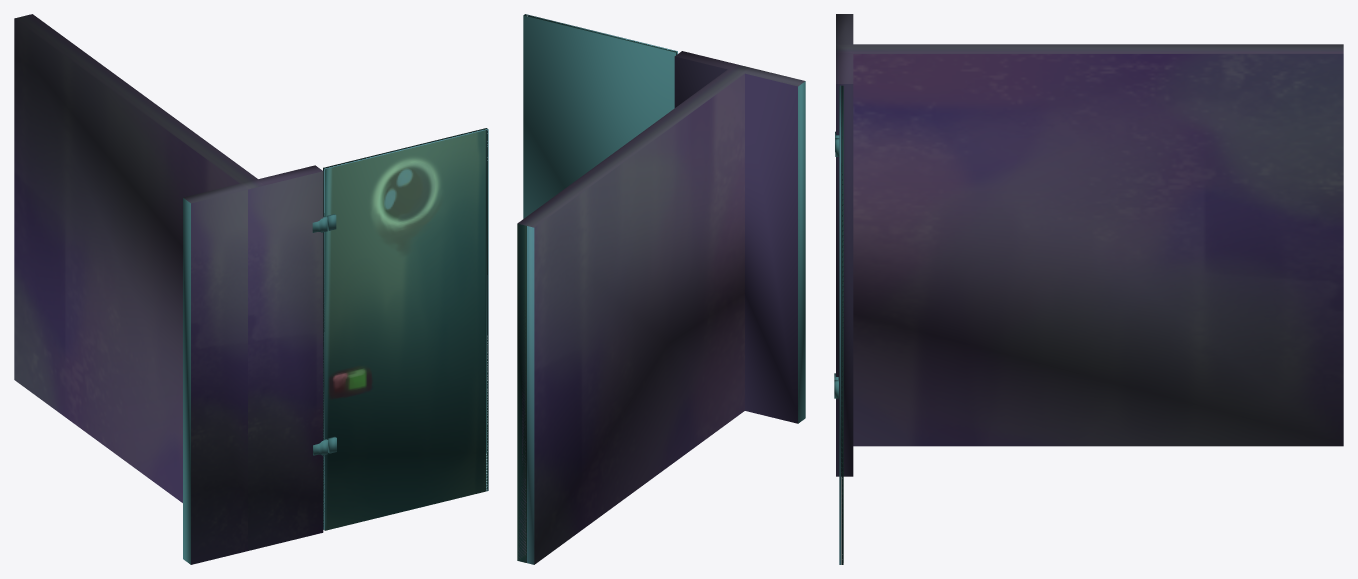
Rendered from Porta.fbx.
The picture shows the model from 3 angles, left to right: view 1: azimuth 30°, elevation 25°; view 2: azimuth 150°, elevation 25°; view 3: azimuth 270°, elevation 25°; orthographic projection. The views are drawn at different scales.
Parts seen in each view (by area): view 1: Porta; view 2: Porta; view 3: Porta.
Boxes of the visible parts, <box> form: Porta: <box>14,14,488,564</box>; Porta: <box>517,14,805,564</box>; Porta: <box>834,14,1343,564</box>.
Size of the model in its own units: 271 by 368 by 313.
